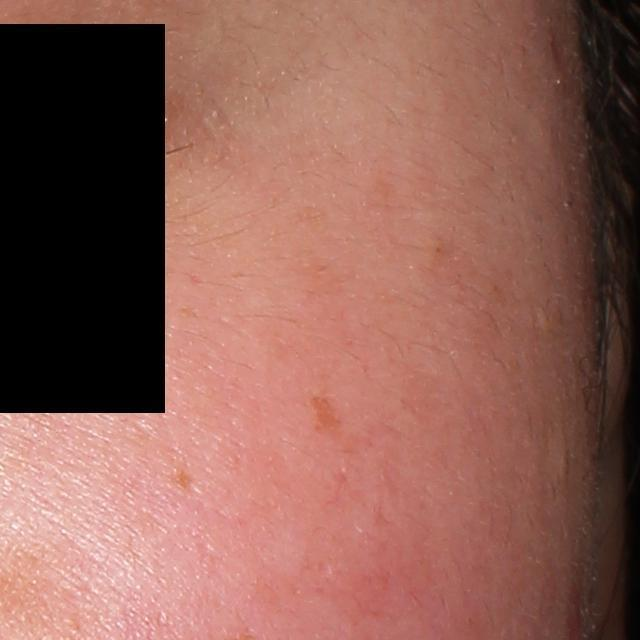melasma: (294, 256, 346, 302), (303, 394, 346, 447), (167, 468, 191, 496)
